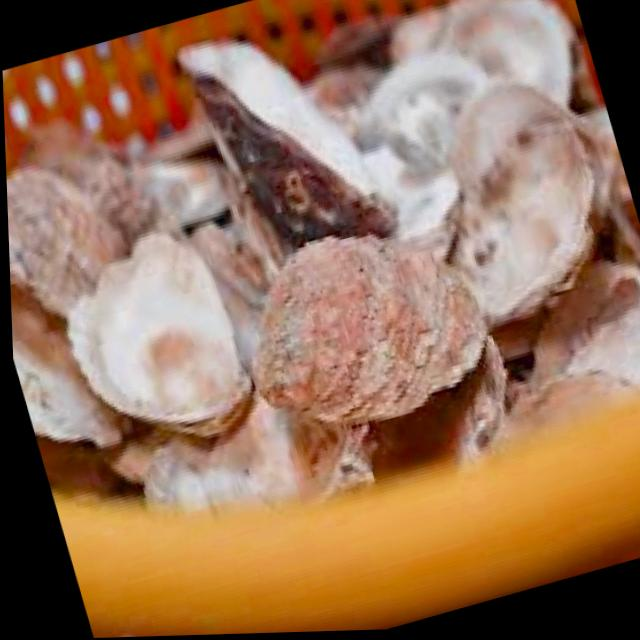Oyster-Indeterminate: (217, 206, 505, 453), (125, 360, 382, 540), (365, 333, 531, 481), (114, 131, 250, 243)
Oyster-Open: (175, 2, 404, 276), (409, 63, 631, 335), (45, 214, 268, 468), (5, 140, 179, 459), (379, 0, 598, 157), (333, 34, 514, 202)
